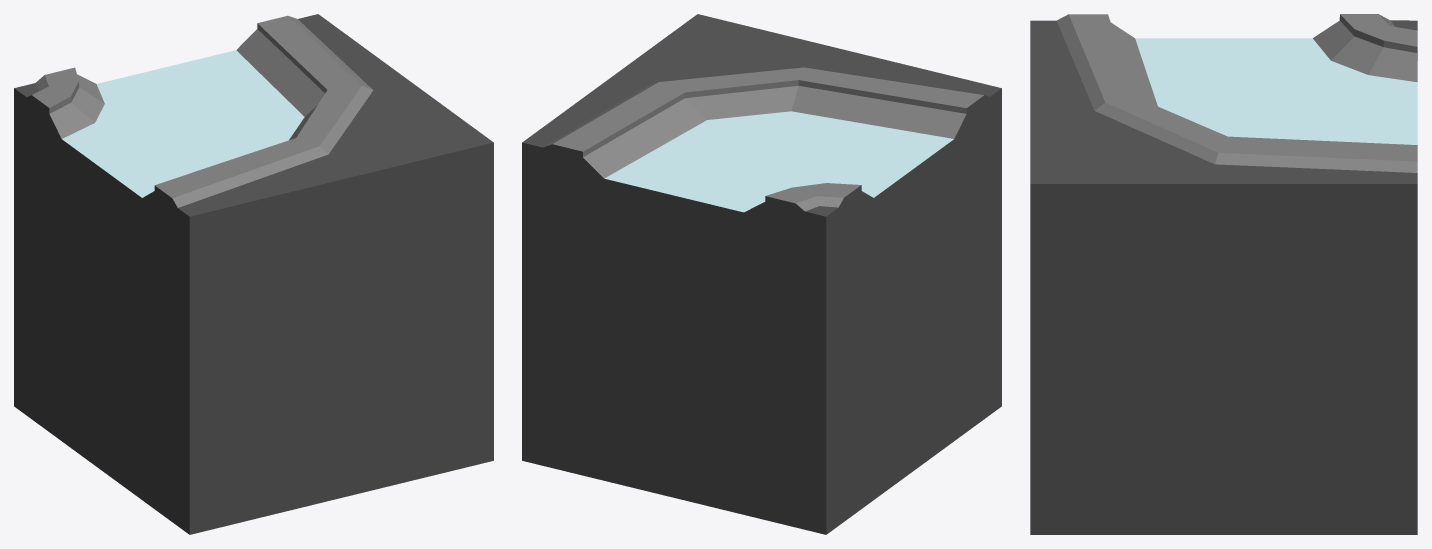
File: blockRiverCityCorner.fbx
3 views of the same model, side by side, from view 1: azimuth 30°, elevation 25°; view 2: azimuth 150°, elevation 25°; view 3: azimuth 270°, elevation 25° (orthographic). The views are drawn at different scales.
Parts seen in each view (by area): view 1: blockRiverCityCorner; view 2: blockRiverCityCorner; view 3: blockRiverCityCorner.
Boxes of the visible parts, box(x1,y1,x2,y2) form: blockRiverCityCorner: box(14, 14, 493, 534); blockRiverCityCorner: box(522, 14, 1001, 534); blockRiverCityCorner: box(1030, 14, 1417, 534).
Bounding box in the file's own units: 100 × 102 × 100.
